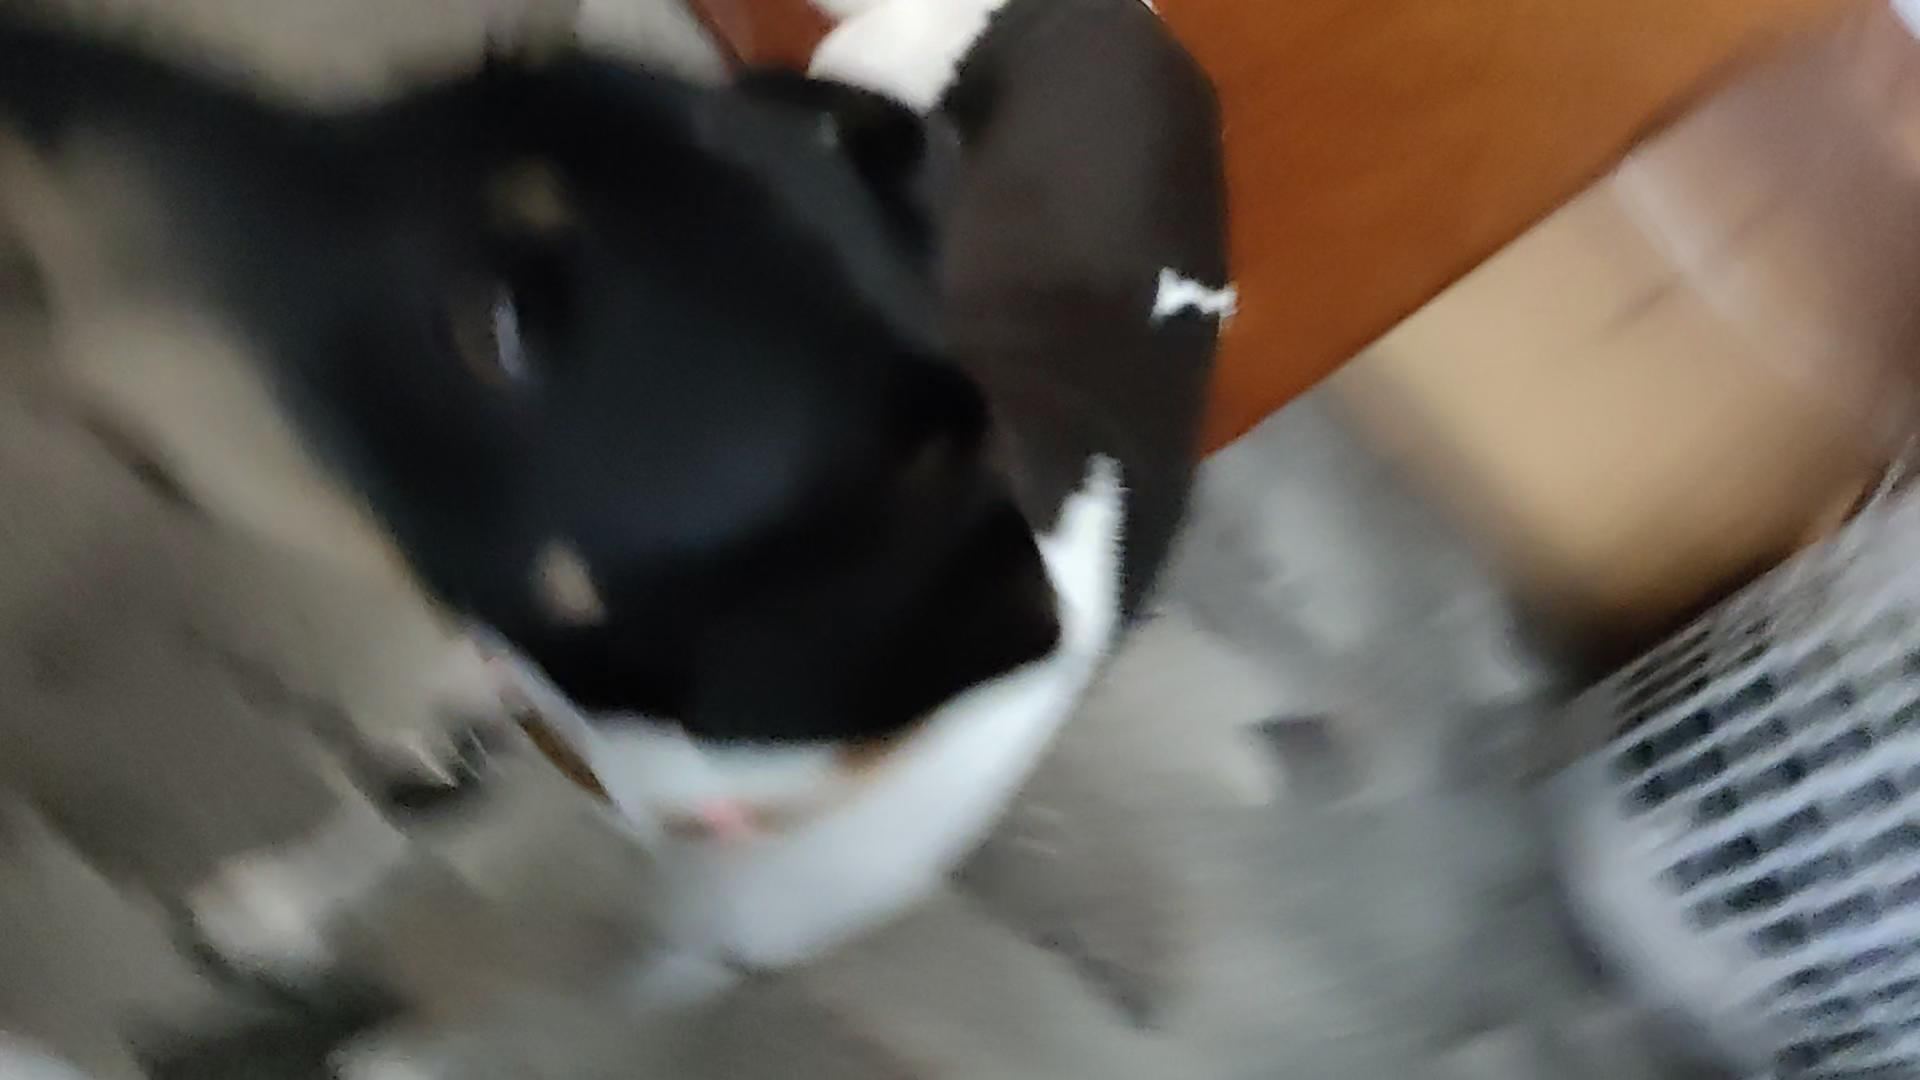Dog: (0, 0, 1241, 1080)
